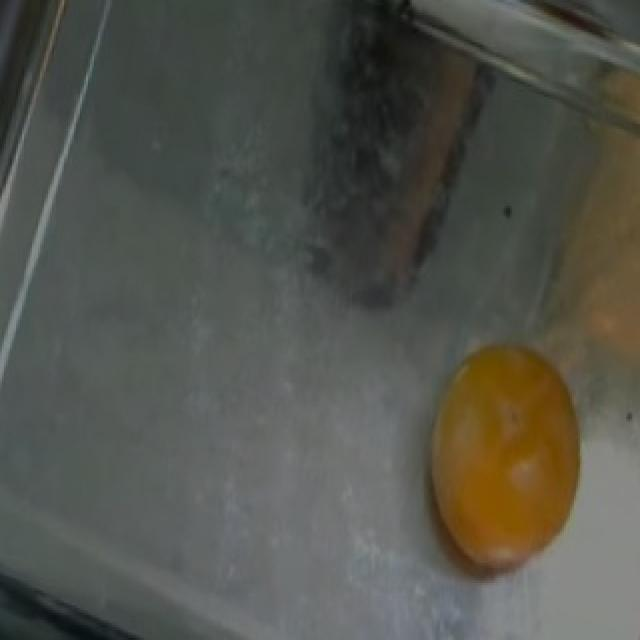Fruit: (406, 320, 602, 600)
